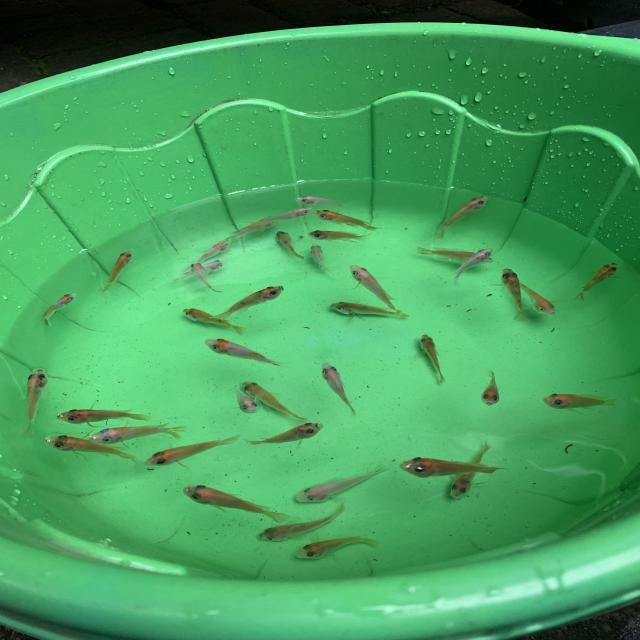nila: (246, 501, 354, 548), (296, 460, 396, 507), (180, 480, 290, 520), (144, 431, 242, 472), (439, 440, 499, 504), (194, 333, 285, 369), (90, 418, 191, 450), (396, 455, 509, 483), (292, 529, 385, 563), (212, 281, 288, 322), (343, 263, 403, 314), (240, 380, 311, 421), (40, 434, 136, 464), (20, 360, 54, 438), (55, 404, 152, 431), (242, 417, 326, 448), (320, 358, 364, 416), (444, 242, 495, 292), (569, 258, 619, 308), (317, 295, 411, 321), (540, 387, 619, 417), (437, 193, 493, 235), (511, 274, 562, 320), (179, 306, 255, 335), (98, 244, 139, 295), (498, 262, 530, 326), (312, 204, 378, 233), (181, 235, 237, 269), (36, 290, 79, 333), (416, 331, 450, 385), (414, 246, 501, 266), (174, 257, 235, 285), (222, 213, 282, 240), (268, 227, 307, 264), (297, 228, 378, 245), (304, 240, 341, 276), (186, 260, 222, 295), (477, 367, 504, 407), (262, 204, 318, 223), (289, 194, 352, 209), (230, 388, 258, 416)
